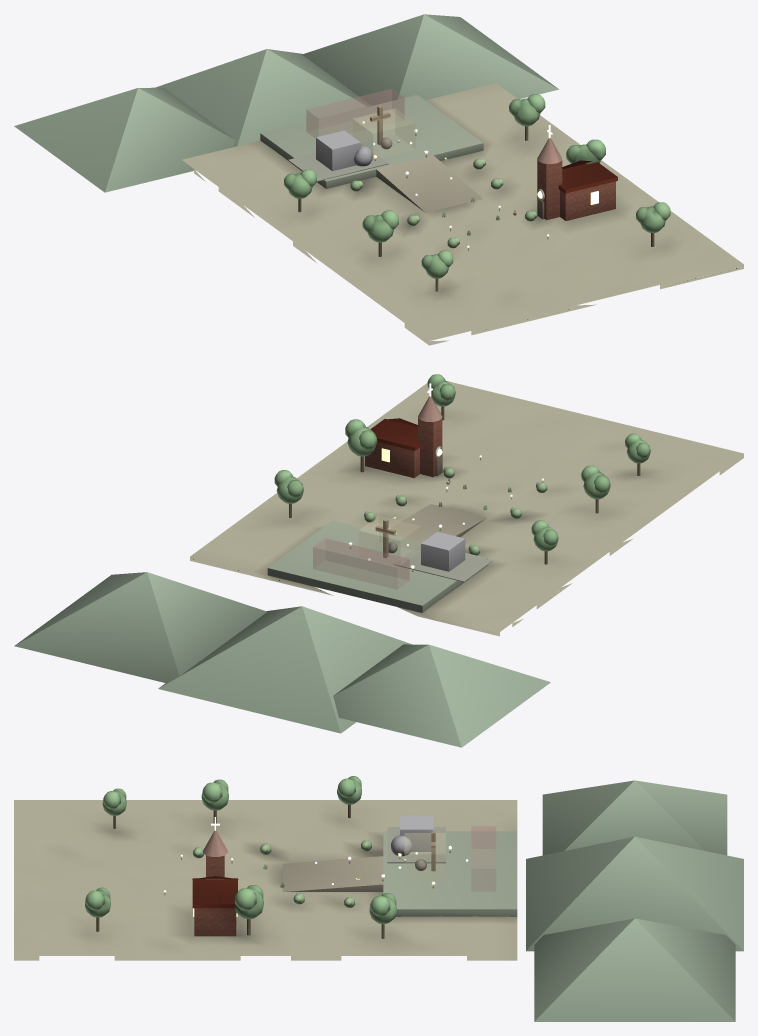
The model's file is cross_and_tomb.glb.
3 views of the same model, one above another, from view 1: azimuth 30°, elevation 25°; view 2: azimuth 150°, elevation 25°; view 3: azimuth 270°, elevation 25° (orthographic). The views are drawn at different scales.
Parts seen in each view (by area): view 1: ENV_Cross_Ground, VIS_PROP_Ridge_GreenHills (×3), ENV_Cross_Hilltop, VIS_PROP_Chapel (×3), ENV_Cross_HillPath, TRIGGER_DemoEnd, TRIGGER_CrossEvent, VIS_PROP_Tomb, ENV_Cross_TombSlope; view 2: ENV_Cross_Ground, VIS_PROP_Ridge_GreenHills (×3), ENV_Cross_Hilltop, VIS_PROP_Chapel (×3), TRIGGER_DemoEnd, ENV_Cross_HillPath, TRIGGER_CrossEvent, VIS_PROP_Tomb, ENV_Cross_TombSlope; view 3: ENV_Cross_Ground, VIS_PROP_Ridge_GreenHills (×3), ENV_Cross_Hilltop, VIS_PROP_Chapel (×4), ENV_Cross_HillPath, TRIGGER_CrossEvent, TRIGGER_DemoEnd, ENV_Cross_TombSlope, VIS_PROP_Tomb.
Boxes of the visible parts, bbox=[...] form: ENV_Cross_Ground: bbox=[182, 83, 743, 345]; VIS_PROP_Ridge_GreenHills (×3): bbox=[14, 14, 558, 192]; ENV_Cross_Hilltop: bbox=[260, 95, 483, 188]; VIS_PROP_Chapel (×3): bbox=[537, 157, 617, 220]; ENV_Cross_HillPath: bbox=[376, 155, 482, 212]; TRIGGER_DemoEnd: bbox=[306, 89, 404, 137]; TRIGGER_CrossEvent: bbox=[353, 108, 415, 158]; VIS_PROP_Tomb: bbox=[316, 130, 360, 170]; ENV_Cross_TombSlope: bbox=[288, 143, 388, 181]; ENV_Cross_Ground: bbox=[190, 381, 743, 636]; VIS_PROP_Ridge_GreenHills (×3): bbox=[14, 572, 550, 747]; ENV_Cross_Hilltop: bbox=[267, 520, 487, 612]; VIS_PROP_Chapel (×3): bbox=[365, 415, 442, 478]; TRIGGER_DemoEnd: bbox=[313, 538, 409, 588]; ENV_Cross_HillPath: bbox=[390, 504, 486, 542]; TRIGGER_CrossEvent: bbox=[359, 516, 420, 558]; VIS_PROP_Tomb: bbox=[421, 532, 465, 571]; ENV_Cross_TombSlope: bbox=[394, 544, 492, 581]; ENV_Cross_Ground: bbox=[14, 800, 517, 960]; VIS_PROP_Ridge_GreenHills (×3): bbox=[526, 780, 743, 1021]; ENV_Cross_Hilltop: bbox=[383, 831, 517, 916]; VIS_PROP_Chapel (×4): bbox=[192, 830, 237, 936]; ENV_Cross_HillPath: bbox=[282, 856, 383, 891]; TRIGGER_CrossEvent: bbox=[404, 833, 445, 880]; TRIGGER_DemoEnd: bbox=[471, 826, 495, 890]; ENV_Cross_TombSlope: bbox=[387, 827, 445, 863]; VIS_PROP_Tomb: bbox=[400, 815, 433, 851].
Bounding box in the file's own units: 63 × 16.51 × 87.
Materials: 50 (2 with a texture image).
